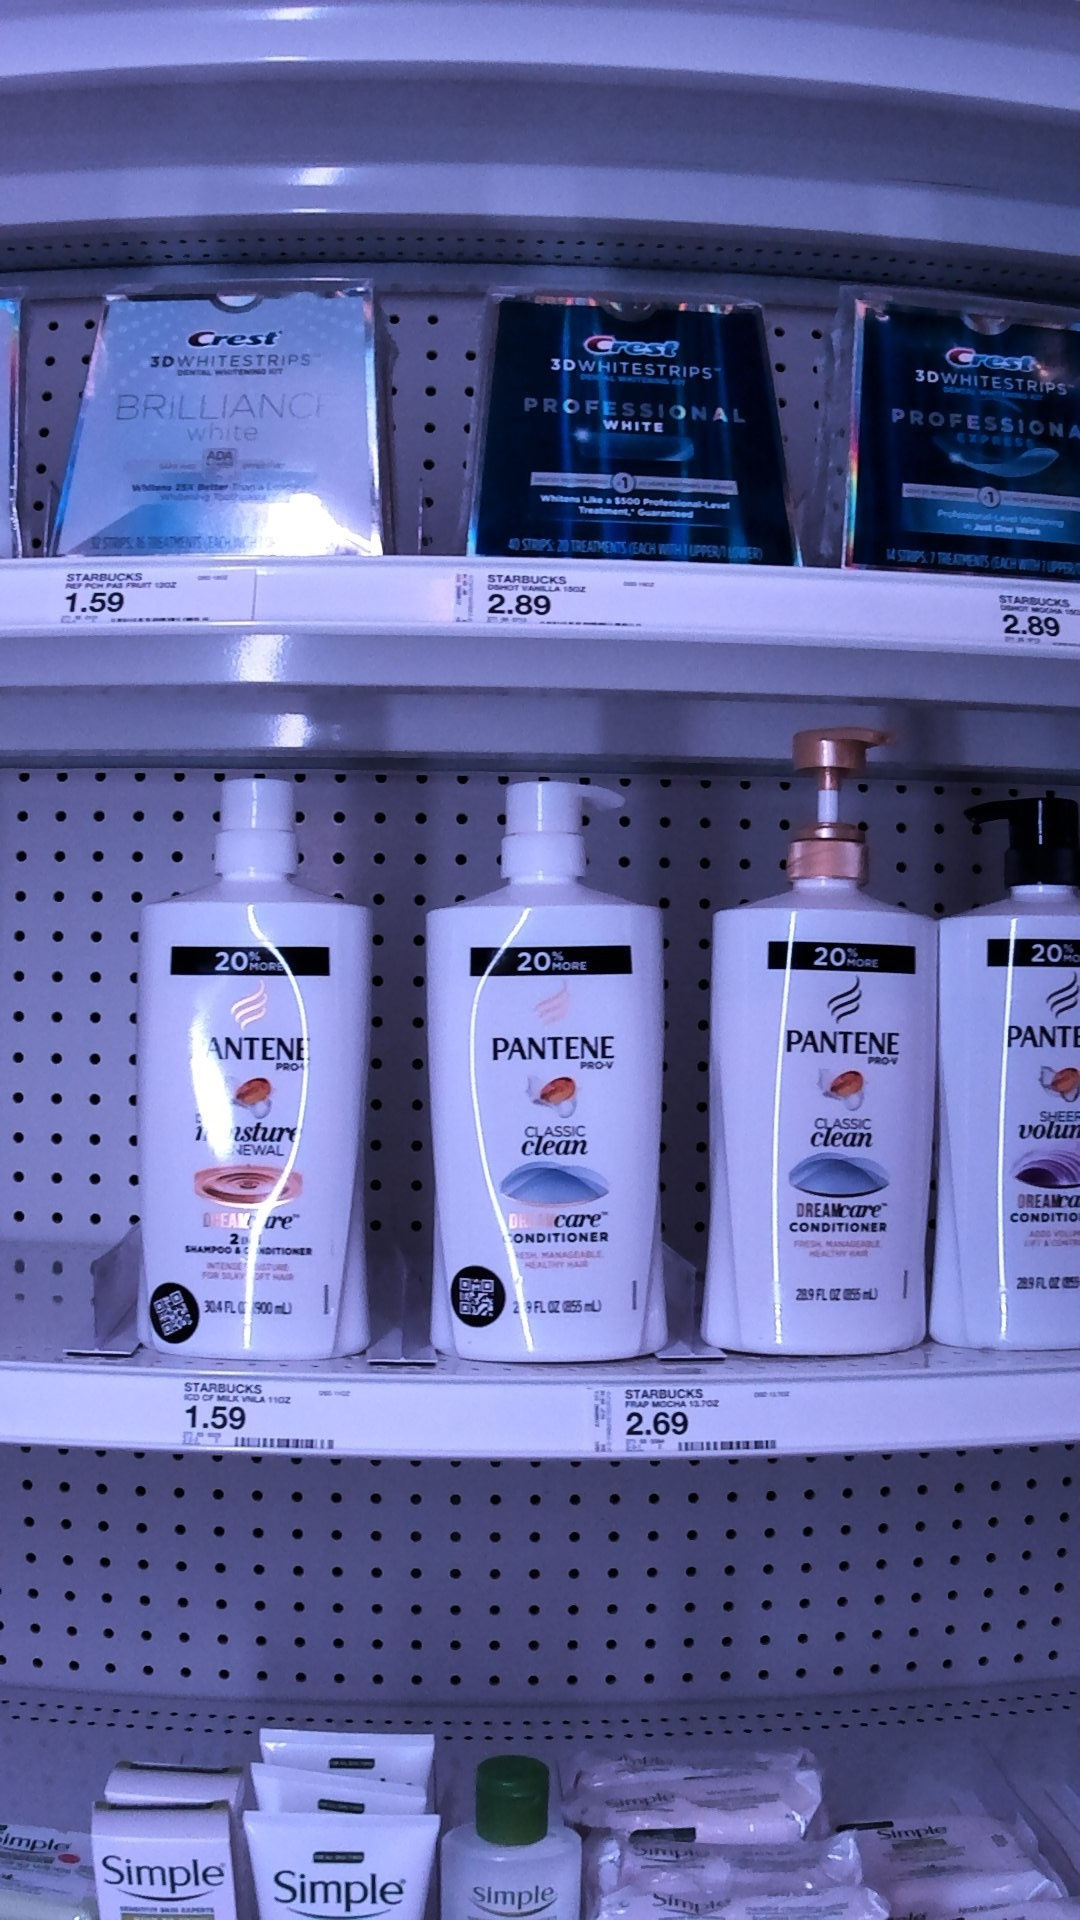ptag: (589, 1379, 800, 1469), (175, 1371, 351, 1462), (454, 560, 671, 633), (51, 566, 258, 637), (984, 585, 1080, 659)
